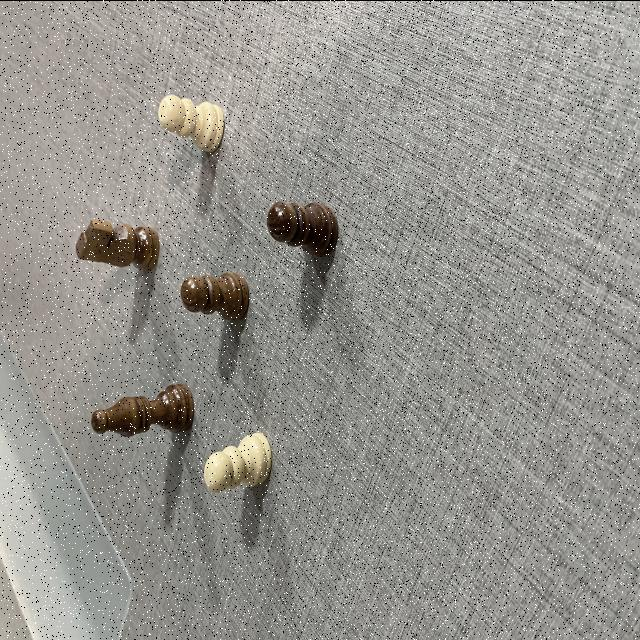Black-Bishop: (90, 381, 193, 435)
Black-Knight: (76, 218, 156, 270)
Black-Pawn: (266, 202, 339, 256), (180, 270, 250, 320)
White-Pawn: (205, 424, 271, 492), (158, 94, 225, 150)
